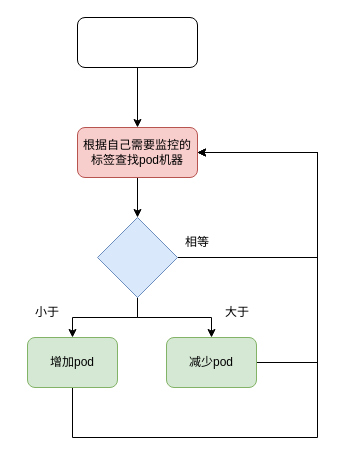
Some shapes in this 343 by 463 pixel diagram are drawn without their labels. Each missing label, with the centre of its shape:
"replication controller" goes at pixel 137 42.
"真实的pod和 期望的是否一致" goes at pixel 137 257.
